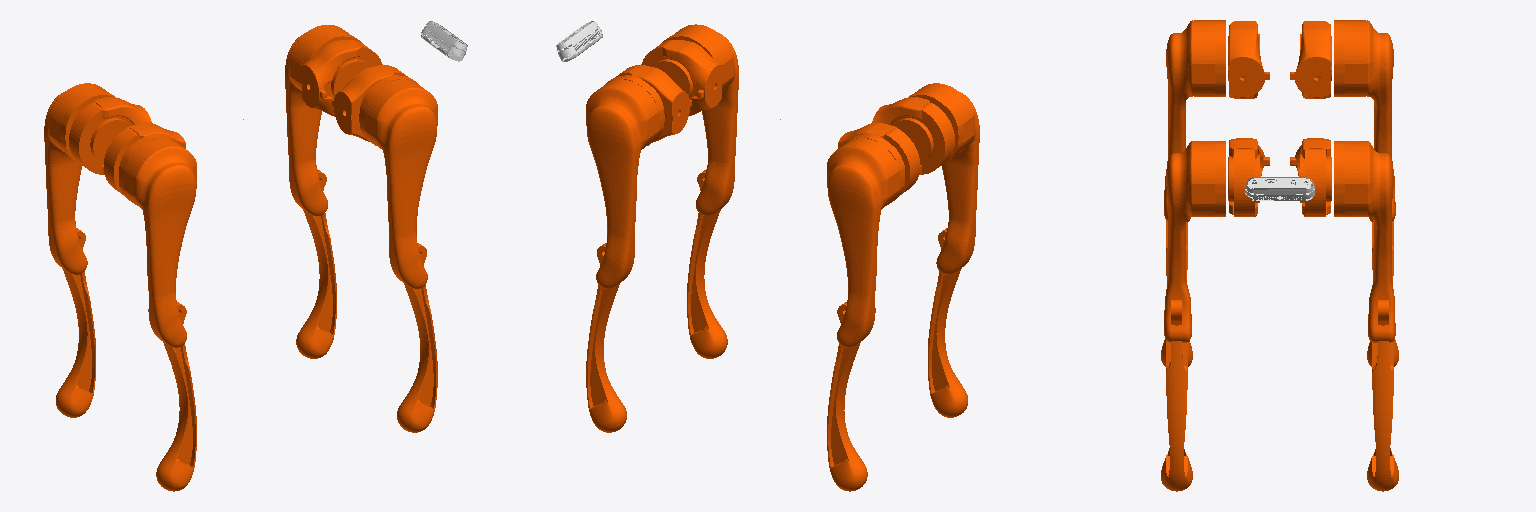
The robot description file, URDF, robot "a1":
<?xml version="1.0" encoding="utf-8"?>
<!-- =================================================================================== -->
<!-- |    This document was autogenerated by xacro from robot.xacro                    | -->
<!-- |    EDITING THIS FILE BY HAND IS NOT RECOMMENDED                                 | -->
<!-- =================================================================================== -->
<robot name="a1">
  <material name="black">
    <color rgba="0.0 0.0 0.0 1.0"/>
  </material>
  <material name="blue">
    <color rgba="0.0 0.0 0.8 1.0"/>
  </material>
  <material name="green">
    <color rgba="0.0 0.8 0.0 1.0"/>
  </material>
  <material name="grey">
    <color rgba="0.8 0.8 0.8 1.0"/>
  </material>
  <material name="silver">
    <color rgba="0.913725490196 0.913725490196 0.847058823529 1.0"/>
  </material>
  <material name="orange">
    <color rgba="1.0 0.423529411765 0.0392156862745 1.0"/>
  </material>
  <material name="brown">
    <color rgba="0.870588235294 0.811764705882 0.764705882353 1.0"/>
  </material>
  <material name="red">
    <color rgba="0.8 0.0 0.0 1.0"/>
  </material>
  <material name="white">
    <color rgba="1.0 1.0 1.0 1.0"/>
  </material>
  <link name="base">
    <visual>
      <origin rpy="0 0 0" xyz="0 0 0"/>
      <geometry>
        <box size="0.001 0.001 0.001"/>
      </geometry>
    </visual>
  </link>
  <joint name="floating_base" type="fixed">
    <origin rpy="0 0 0" xyz="0 0 0"/>
    <parent link="base"/>
    <child link="trunk"/>
  </joint>
  <link name="trunk">
    <visual>
      <origin rpy="0 0 0" xyz="0 0 0"/>
      <geometry>
           <mesh filename="../meshes/trunk.dae" scale="1 1 1"/>
      </geometry>
      <material name="black"/>
    </visual>
    <collision>
      <origin rpy="0 0 0" xyz="0 0 0"/>
      <geometry>
        <box size="0.267 0.194 0.114"/>
      </geometry>
    </collision>
    <inertial>
      <origin rpy="0 0 0" xyz="0.0 0.0041 -0.0005"/>
      <mass value="6.0"/>
      <inertia ixx="0.0158533" ixy="-3.66e-05" ixz="-6.11e-05" iyy="0.0377999" iyz="-2.75e-05" izz="0.0456542"/>
    </inertial>
  </link>




<link name="d435_camera_link">
  <inertial>
    <origin rpy="0 0 0" xyz="0 0 0"/>
    <mass value="0.055"/>
    <inertia ixx="1e-5" ixy="0" ixz="0" iyy="1e-5" iyz="0" izz="1e-5"/>
  </inertial>

  <visual>
    <origin rpy="1.57 0 1.57" xyz="0.015 0 0"/>
    <geometry>
       <mesh filename="../meshes/d435.stl"/>
    </geometry>
    <material name="camera_color">
      <color rgba="0.9 0.9 0.9 1.0"/>
    </material>
  </visual>

  <collision>
    <origin rpy="0 0 0" xyz="0 0 0"/>
    <geometry>
      <box size="0.025 0.09 0.025"/>
    </geometry>
  </collision>
</link>


<joint name="d435_camera_joint" type="fixed">
  <origin rpy="0 -1.0472 0" xyz="0.3 0 0.04"/>
  <parent link="trunk"/>
  <child link="d435_camera_link"/>
</joint>














  <joint name="imu_joint" type="fixed">
    <parent link="trunk"/>
    <child link="imu_link"/>
    <origin rpy="0 0 0" xyz="0 0 0"/>
  </joint>
  <link name="imu_link">
    <inertial>
      <mass value="0.001"/>
      <origin rpy="0 0 0" xyz="0 0 0"/>
      <inertia ixx="0.0001" ixy="0" ixz="0" iyy="0.0001" iyz="0" izz="0.0001"/>
    </inertial>
    <visual>
      <origin rpy="0 0 0" xyz="0 0 0"/>
      <geometry>
        <box size="0.001 0.001 0.001"/>
      </geometry>
      <material name="red"/>
    </visual>
    <collision>
      <origin rpy="0 0 0" xyz="0 0 0"/>
      <geometry>
        <box size=".001 .001 .001"/>
      </geometry>
    </collision>
  </link>
  <joint name="FR_hip_joint" type="revolute">
    <origin rpy="0 0 0" xyz="0.1805 -0.047 0"/>
    <parent link="trunk"/>
    <child link="FR_hip"/>
    <axis xyz="1 0 0"/>
    <dynamics damping="0." friction="0.0"/>
    <limit effort="33.5" lower="-6.28" upper="6.28" velocity="21"/>
  </joint>
  <link name="FR_hip">
    <visual>
      <origin rpy="3.14159265359 0 0" xyz="0 0 0"/>
      <geometry>
           <mesh filename="../meshes/hip.dae" scale="1 1 1"/>
      </geometry>
      <material name="orange"/>
    </visual>
    <collision>
      <origin rpy="1.57079632679 0 0" xyz="0 0 0"/>
      <geometry>
        <cylinder length="0.04" radius="0.046"/>
      </geometry>
    </collision>
    <inertial>
      <origin rpy="0 0 0" xyz="-0.003311 -0.000635 3.1e-05"/>
      <mass value="0.696"/>
      <inertia ixx="0.000469246" ixy="9.409e-06" ixz="-3.42e-07" iyy="0.00080749" iyz="4.66e-07" izz="0.000552929"/>
    </inertial>
  </link>
  <joint name="FR_hip_fixed" type="fixed">
    <origin rpy="0 0 0" xyz="0 -0.081 0"/>
    <parent link="FR_hip"/>
    <child link="FR_thigh_shoulder"/>
  </joint>
  <!-- this link is only for collision -->
  <link name="FR_thigh_shoulder">
    <collision>
      <origin rpy="1.57079632679 0 0" xyz="0 0 0"/>
      <geometry>
        <cylinder length="0.032" radius="0.041"/>
      </geometry>
    </collision>
  </link>
  <joint name="FR_thigh_joint" type="revolute">
    <origin rpy="0 0 0" xyz="0 -0.0838 0"/>
    <parent link="FR_hip"/>
    <child link="FR_thigh"/>
    <axis xyz="0 1 0"/>
    <dynamics damping="0." friction="0.0"/>
    <limit effort="33.5" lower="-6.28" upper="6.28" velocity="21"/>
  </joint>
  <link name="FR_thigh">
    <visual>
      <origin rpy="0 0 0" xyz="0 0 0"/>
      <geometry>
           <mesh filename="../meshes/thigh_mirror.dae" scale="1 1 1"/>
      </geometry>
      <material name="orange"/>
    </visual>
    <collision>
      <origin rpy="0 1.57079632679 0" xyz="0 0 -0.1"/>
      <geometry>
        <box size="0.2 0.0245 0.034"/>
      </geometry>
    </collision>
    <inertial>
      <origin rpy="0 0 0" xyz="-0.003237 0.022327 -0.027326"/>
      <mass value="1.013"/>
      <inertia ixx="0.005529065" ixy="-4.825e-06" ixz="0.000343869" iyy="0.005139339" iyz="-2.2448e-05" izz="0.001367788"/>
    </inertial>
  </link>
  <joint name="FR_calf_joint" type="revolute">
    <origin rpy="0 0 0" xyz="0 0 -0.2"/>
    <parent link="FR_thigh"/>
    <child link="FR_calf"/>
    <axis xyz="0 1 0"/>
    <dynamics damping="0." friction="0.0"/>
    <limit effort="33.5" lower="-6.28" upper="6.28" velocity="21"/>
  </joint>
  <link name="FR_calf">
    <visual>
      <origin rpy="0 0 0" xyz="0 0 0"/>
      <geometry>
           <mesh filename="../meshes/calf.dae" scale="1 1 1"/>
      </geometry>
      <material name="orange"/>
    </visual>
    <collision>
      <origin rpy="0 1.57079632679 0" xyz="0 0 -0.1"/>
      <geometry>
        <box size="0.2 0.016 0.016"/>
      </geometry>
    </collision>
    <inertial>
      <origin rpy="0 0 0" xyz="0.006435 0.0 -0.107388"/>
      <mass value="0.166"/>
      <inertia ixx="0.002997972" ixy="0.0" ixz="-0.000141163" iyy="0.003014022" iyz="0.0" izz="3.2426e-05"/>
    </inertial>
  </link>
  <joint name="FR_foot_fixed" type="fixed"  dont_collapse="true">
    <origin rpy="0 0 0" xyz="0 0 -0.2"/>
    <parent link="FR_calf"/>
    <child link="FR_foot"/>
  </joint>
  <link name="FR_foot">
    <visual>
      <origin rpy="0 0 0" xyz="0 0 0"/>
      <geometry>
        <sphere radius="0.01"/>
      </geometry>
      <material name="orange"/>
    </visual>
    <collision>
      <origin rpy="0 0 0" xyz="0 0 0"/>
      <geometry>
        <sphere radius="0.02"/>
      </geometry>
    </collision>
    <inertial>
      <mass value="0.06"/>
      <inertia ixx="9.6e-06" ixy="0.0" ixz="0.0" iyy="9.6e-06" iyz="0.0" izz="9.6e-06"/>
    </inertial>
  </link>
  <joint name="FL_hip_joint" type="revolute">
    <origin rpy="0 0 0" xyz="0.1805 0.047 0"/>
    <parent link="trunk"/>
    <child link="FL_hip"/>
    <axis xyz="1 0 0"/>
    <dynamics damping="0." friction="0.0"/>
    <limit effort="33.5" lower="-6.28" upper="6.28" velocity="21"/>
  </joint>
  <link name="FL_hip">
    <visual>
      <origin rpy="0 0 0" xyz="0 0 0"/>
      <geometry>
           <mesh filename="../meshes/hip.dae" scale="1 1 1"/>
      </geometry>
      <material name="orange"/>
    </visual>
    <collision>
      <origin rpy="1.57079632679 0 0" xyz="0 0 0"/>
      <geometry>
        <cylinder length="0.04" radius="0.046"/>
      </geometry>
    </collision>
    <inertial>
      <origin rpy="0 0 0" xyz="-0.003311 0.000635 3.1e-05"/>
      <mass value="0.696"/>
      <inertia ixx="0.000469246" ixy="-9.409e-06" ixz="-3.42e-07" iyy="0.00080749" iyz="-4.66e-07" izz="0.000552929"/>
    </inertial>
  </link>
  <joint name="FL_hip_fixed" type="fixed">
    <origin rpy="0 0 0" xyz="0 0.081 0"/>
    <parent link="FL_hip"/>
    <child link="FL_thigh_shoulder"/>
  </joint>
  <!-- this link is only for collision -->
  <link name="FL_thigh_shoulder">
    <collision>
      <origin rpy="1.57079632679 0 0" xyz="0 0 0"/>
      <geometry>
        <cylinder length="0.032" radius="0.041"/>
      </geometry>
    </collision>
  </link>
  <joint name="FL_thigh_joint" type="revolute">
    <origin rpy="0 0 0" xyz="0 0.0838 0"/>
    <parent link="FL_hip"/>
    <child link="FL_thigh"/>
    <axis xyz="0 1 0"/>
    <dynamics damping="0." friction="0.0"/>
    <limit effort="33.5" lower="-6.28" upper="6.28" velocity="21"/>
  </joint>
  <link name="FL_thigh">
    <visual>
      <origin rpy="0 0 0" xyz="0 0 0"/>
      <geometry>
           <mesh filename="../meshes/thigh.dae" scale="1 1 1"/>
      </geometry>
      <material name="orange"/>
    </visual>
    <collision>
      <origin rpy="0 1.57079632679 0" xyz="0 0 -0.1"/>
      <geometry>
        <box size="0.2 0.0245 0.034"/>
      </geometry>
    </collision>
    <inertial>
      <origin rpy="0 0 0" xyz="-0.003237 -0.022327 -0.027326"/>
      <mass value="1.013"/>
      <inertia ixx="0.005529065" ixy="4.825e-06" ixz="0.000343869" iyy="0.005139339" iyz="2.2448e-05" izz="0.001367788"/>
    </inertial>
  </link>
  <joint name="FL_calf_joint" type="revolute">
    <origin rpy="0 0 0" xyz="0 0 -0.2"/>
    <parent link="FL_thigh"/>
    <child link="FL_calf"/>
    <axis xyz="0 1 0"/>
    <dynamics damping="0." friction="0.0"/>
    <limit effort="33.5" lower="-6.28" upper="6.28" velocity="21"/>
  </joint>
  <link name="FL_calf">
    <visual>
      <origin rpy="0 0 0" xyz="0 0 0"/>
      <geometry>
           <mesh filename="../meshes/calf.dae" scale="1 1 1"/>
      </geometry>
      <material name="orange"/>
    </visual>
    <collision>
      <origin rpy="0 1.57079632679 0" xyz="0 0 -0.1"/>
      <geometry>
        <box size="0.2 0.016 0.016"/>
      </geometry>
    </collision>
    <inertial>
      <origin rpy="0 0 0" xyz="0.006435 0.0 -0.107388"/>
      <mass value="0.166"/>
      <inertia ixx="0.002997972" ixy="0.0" ixz="-0.000141163" iyy="0.003014022" iyz="0.0" izz="3.2426e-05"/>
    </inertial>
  </link>
  <joint name="FL_foot_fixed" type="fixed"  dont_collapse="true">
    <origin rpy="0 0 0" xyz="0 0 -0.2"/>
    <parent link="FL_calf"/>
    <child link="FL_foot"/>
  </joint>
  <link name="FL_foot">
    <visual>
      <origin rpy="0 0 0" xyz="0 0 0"/>
      <geometry>
        <sphere radius="0.01"/>
      </geometry>
      <material name="orange"/>
    </visual>
    <collision>
      <origin rpy="0 0 0" xyz="0 0 0"/>
      <geometry>
        <sphere radius="0.02"/>
      </geometry>
    </collision>
    <inertial>
      <mass value="0.06"/>
      <inertia ixx="9.6e-06" ixy="0.0" ixz="0.0" iyy="9.6e-06" iyz="0.0" izz="9.6e-06"/>
    </inertial>
  </link>
  <joint name="RR_hip_joint" type="revolute">
    <origin rpy="0 0 0" xyz="-0.1805 -0.047 0"/>
    <parent link="trunk"/>
    <child link="RR_hip"/>
    <axis xyz="1 0 0"/>
    <dynamics damping="0." friction="0.0"/>
    <limit effort="33.5" lower="-6.28" upper="6.28" velocity="21"/>
  </joint>
  <link name="RR_hip">
    <visual>
      <origin rpy="3.14159265359 3.14159265359 0" xyz="0 0 0"/>
      <geometry>
           <mesh filename="../meshes/hip.dae" scale="1 1 1"/>
      </geometry>
      <material name="orange"/>
    </visual>
    <collision>
      <origin rpy="1.57079632679 0 0" xyz="0 0 0"/>
      <geometry>
        <cylinder length="0.04" radius="0.046"/>
      </geometry>
    </collision>
    <inertial>
      <origin rpy="0 0 0" xyz="0.003311 -0.000635 3.1e-05"/>
      <mass value="0.696"/>
      <inertia ixx="0.000469246" ixy="-9.409e-06" ixz="3.42e-07" iyy="0.00080749" iyz="4.66e-07" izz="0.000552929"/>
    </inertial>
  </link>
  <joint name="RR_hip_fixed" type="fixed">
    <origin rpy="0 0 0" xyz="0 -0.081 0"/>
    <parent link="RR_hip"/>
    <child link="RR_thigh_shoulder"/>
  </joint>
  <!-- this link is only for collision -->
  <link name="RR_thigh_shoulder">
    <collision>
      <origin rpy="1.57079632679 0 0" xyz="0 0 0"/>
      <geometry>
        <cylinder length="0.032" radius="0.041"/>
      </geometry>
    </collision>
  </link>
  <joint name="RR_thigh_joint" type="revolute">
    <origin rpy="0 0 0" xyz="0 -0.0838 0"/>
    <parent link="RR_hip"/>
    <child link="RR_thigh"/>
    <axis xyz="0 1 0"/>
    <dynamics damping="0." friction="0.0"/>
    <limit effort="33.5" lower="-6.28" upper="6.28" velocity="21"/>
  </joint>
  <link name="RR_thigh">
    <visual>
      <origin rpy="0 0 0" xyz="0 0 0"/>
      <geometry>
           <mesh filename="../meshes/thigh_mirror.dae" scale="1 1 1"/>
      </geometry>
      <material name="orange"/>
    </visual>
    <collision>
      <origin rpy="0 1.57079632679 0" xyz="0 0 -0.1"/>
      <geometry>
        <box size="0.2 0.0245 0.034"/>
      </geometry>
    </collision>
    <inertial>
      <origin rpy="0 0 0" xyz="-0.003237 0.022327 -0.027326"/>
      <mass value="1.013"/>
      <inertia ixx="0.005529065" ixy="-4.825e-06" ixz="0.000343869" iyy="0.005139339" iyz="-2.2448e-05" izz="0.001367788"/>
    </inertial>
  </link>
  <joint name="RR_calf_joint" type="revolute">
    <origin rpy="0 0 0" xyz="0 0 -0.2"/>
    <parent link="RR_thigh"/>
    <child link="RR_calf"/>
    <axis xyz="0 1 0"/>
    <dynamics damping="0." friction="0.0"/>
    <limit effort="33.5" lower="-6.28" upper="6.28" velocity="21"/>
  </joint>
  <link name="RR_calf">
    <visual>
      <origin rpy="0 0 0" xyz="0 0 0"/>
      <geometry>
           <mesh filename="../meshes/calf.dae" scale="1 1 1"/>
      </geometry>
      <material name="orange"/>
    </visual>
    <collision>
      <origin rpy="0 1.57079632679 0" xyz="0 0 -0.1"/>
      <geometry>
        <box size="0.2 0.016 0.016"/>
      </geometry>
    </collision>
    <inertial>
      <origin rpy="0 0 0" xyz="0.006435 0.0 -0.107388"/>
      <mass value="0.166"/>
      <inertia ixx="0.002997972" ixy="0.0" ixz="-0.000141163" iyy="0.003014022" iyz="0.0" izz="3.2426e-05"/>
    </inertial>
  </link>
  <joint name="RR_foot_fixed" type="fixed"  dont_collapse="true">
    <origin rpy="0 0 0" xyz="0 0 -0.2"/>
    <parent link="RR_calf"/>
    <child link="RR_foot"/>
  </joint>
  <link name="RR_foot">
    <visual>
      <origin rpy="0 0 0" xyz="0 0 0"/>
      <geometry>
        <sphere radius="0.01"/>
      </geometry>
      <material name="orange"/>
    </visual>
    <collision>
      <origin rpy="0 0 0" xyz="0 0 0"/>
      <geometry>
        <sphere radius="0.02"/>
      </geometry>
    </collision>
    <inertial>
      <mass value="0.06"/>
      <inertia ixx="9.6e-06" ixy="0.0" ixz="0.0" iyy="9.6e-06" iyz="0.0" izz="9.6e-06"/>
    </inertial>
  </link>
  <joint name="RL_hip_joint" type="revolute">
    <origin rpy="0 0 0" xyz="-0.1805 0.047 0"/>
    <parent link="trunk"/>
    <child link="RL_hip"/>
    <axis xyz="1 0 0"/>
    <dynamics damping="0." friction="0.0"/>
    <limit effort="33.5" lower="-6.28" upper="6.28" velocity="21"/>
  </joint>
  <link name="RL_hip">
    <visual>
      <origin rpy="0 3.14159265359 0" xyz="0 0 0"/>
      <geometry>
           <mesh filename="../meshes/hip.dae" scale="1 1 1"/>
      </geometry>
      <material name="orange"/>
    </visual>
    <collision>
      <origin rpy="1.57079632679 0 0" xyz="0 0 0"/>
      <geometry>
        <cylinder length="0.04" radius="0.046"/>
      </geometry>
    </collision>
    <inertial>
      <origin rpy="0 0 0" xyz="0.003311 0.000635 3.1e-05"/>
      <mass value="0.696"/>
      <inertia ixx="0.000469246" ixy="9.409e-06" ixz="3.42e-07" iyy="0.00080749" iyz="-4.66e-07" izz="0.000552929"/>
    </inertial>
  </link>
  <joint name="RL_hip_fixed" type="fixed">
    <origin rpy="0 0 0" xyz="0 0.081 0"/>
    <parent link="RL_hip"/>
    <child link="RL_thigh_shoulder"/>
  </joint>
  <!-- this link is only for collision -->
  <link name="RL_thigh_shoulder">
    <collision>
      <origin rpy="1.57079632679 0 0" xyz="0 0 0"/>
      <geometry>
        <cylinder length="0.032" radius="0.041"/>
      </geometry>
    </collision>
  </link>
  <joint name="RL_thigh_joint" type="revolute">
    <origin rpy="0 0 0" xyz="0 0.0838 0"/>
    <parent link="RL_hip"/>
    <child link="RL_thigh"/>
    <axis xyz="0 1 0"/>
    <dynamics damping="0." friction="0.0"/>
    <limit effort="33.5" lower="-6.28" upper="6.28" velocity="21"/>
  </joint>
  <link name="RL_thigh">
    <visual>
      <origin rpy="0 0 0" xyz="0 0 0"/>
      <geometry>
           <mesh filename="../meshes/thigh.dae" scale="1 1 1"/>
      </geometry>
      <material name="orange"/>
    </visual>
    <collision>
      <origin rpy="0 1.57079632679 0" xyz="0 0 -0.1"/>
      <geometry>
        <box size="0.2 0.0245 0.034"/>
      </geometry>
    </collision>
    <inertial>
      <origin rpy="0 0 0" xyz="-0.003237 -0.022327 -0.027326"/>
      <mass value="1.013"/>
      <inertia ixx="0.005529065" ixy="4.825e-06" ixz="0.000343869" iyy="0.005139339" iyz="2.2448e-05" izz="0.001367788"/>
    </inertial>
  </link>
  <joint name="RL_calf_joint" type="revolute">
    <origin rpy="0 0 0" xyz="0 0 -0.2"/>
    <parent link="RL_thigh"/>
    <child link="RL_calf"/>
    <axis xyz="0 1 0"/>
    <dynamics damping="0." friction="0.0"/>
    <limit effort="33.5" lower="-6.28" upper="6.28" velocity="21"/>
  </joint>
  <link name="RL_calf">
    <visual>
      <origin rpy="0 0 0" xyz="0 0 0"/>
      <geometry>
           <mesh filename="../meshes/calf.dae" scale="1 1 1"/>
      </geometry>
      <material name="orange"/>
    </visual>
    <collision>
      <origin rpy="0 1.57079632679 0" xyz="0 0 -0.1"/>
      <geometry>
        <box size="0.2 0.016 0.016"/>
      </geometry>
    </collision>
    <inertial>
      <origin rpy="0 0 0" xyz="0.006435 0.0 -0.107388"/>
      <mass value="0.166"/>
      <inertia ixx="0.002997972" ixy="0.0" ixz="-0.000141163" iyy="0.003014022" iyz="0.0" izz="3.2426e-05"/>
    </inertial>
  </link>
  <joint name="RL_foot_fixed" type="fixed"  dont_collapse="true">
    <origin rpy="0 0 0" xyz="0 0 -0.2"/>
    <parent link="RL_calf"/>
    <child link="RL_foot"/>
  </joint>
  <link name="RL_foot">
    <visual>
      <origin rpy="0 0 0" xyz="0 0 0"/>
      <geometry>
        <sphere radius="0.01"/>
      </geometry>
      <material name="orange"/>
    </visual>
    <collision>
      <origin rpy="0 0 0" xyz="0 0 0"/>
      <geometry>
        <sphere radius="0.02"/>
      </geometry>
    </collision>
    <inertial>
      <mass value="0.06"/>
      <inertia ixx="9.6e-06" ixy="0.0" ixz="0.0" iyy="9.6e-06" iyz="0.0" izz="9.6e-06"/>
    </inertial>
  </link>
</robot>

--- Render facts (derived) ---
3 views of the same robot in one strip: view 1: azimuth 30°, elevation 25°; view 2: azimuth 150°, elevation 25°; view 3: azimuth 270°, elevation 25° (orthographic).
Model a1 with 24 links and 23 joints (12 revolute, 11 fixed), rooted at base, posed every joint at zero.
Links seen in each view (by area): view 1: FR_thigh, RR_thigh, RL_thigh, FL_thigh, RL_hip, FL_hip, FR_calf, RR_calf, FL_calf, RL_calf, FR_hip, RR_hip (+1 smaller); view 2: FL_thigh, RL_thigh, RR_thigh, FR_thigh, RR_hip, FR_hip, FL_calf, RL_calf, FR_calf, RR_calf, FL_hip, RL_hip (+1 smaller); view 3: FR_thigh, FL_thigh, RR_thigh, RL_thigh, FR_calf, FL_calf, RL_hip, RR_hip, FR_hip, FL_hip, d435_camera_link.
Link boxes in pixels (left/top/right/bottom): FR_thigh: left=359, top=75, right=437, bottom=288; RR_thigh: left=119, top=134, right=196, bottom=347; RL_thigh: left=44, top=83, right=114, bottom=274; FL_thigh: left=285, top=25, right=361, bottom=215; RL_hip: left=69, top=97, right=151, bottom=174; FL_hip: left=301, top=40, right=382, bottom=116; FR_calf: left=397, top=243, right=437, bottom=432; RR_calf: left=156, top=302, right=196, bottom=491; FL_calf: left=296, top=169, right=336, bottom=358; RL_calf: left=56, top=228, right=95, bottom=417; FR_hip: left=332, top=65, right=407, bottom=141; RR_hip: left=104, top=122, right=185, bottom=194; FL_thigh: left=586, top=75, right=664, bottom=288; RL_thigh: left=827, top=134, right=904, bottom=347; RR_thigh: left=909, top=83, right=979, bottom=274; FR_thigh: left=662, top=24, right=738, bottom=215; RR_hip: left=872, top=97, right=954, bottom=174; FR_hip: left=641, top=40, right=722, bottom=115; FL_calf: left=586, top=243, right=626, bottom=432; RL_calf: left=827, top=302, right=867, bottom=491; FR_calf: left=687, top=169, right=727, bottom=358; RR_calf: left=928, top=228, right=967, bottom=417; FL_hip: left=616, top=65, right=691, bottom=141; RL_hip: left=838, top=122, right=919, bottom=194; FR_thigh: left=1164, top=141, right=1225, bottom=342; FL_thigh: left=1334, top=141, right=1395, bottom=342; RR_thigh: left=1164, top=20, right=1225, bottom=221; RL_thigh: left=1334, top=20, right=1395, bottom=221; FR_calf: left=1161, top=300, right=1192, bottom=491; FL_calf: left=1367, top=300, right=1398, bottom=491; RL_hip: left=1290, top=21, right=1331, bottom=98; RR_hip: left=1228, top=21, right=1269, bottom=98; FR_hip: left=1228, top=138, right=1269, bottom=216; FL_hip: left=1290, top=138, right=1331, bottom=216; d435_camera_link: left=1245, top=177, right=1314, bottom=200.
Size in the robot's own frame: 0.5445 by 0.3021 by 0.493 metres.
13 mesh visuals loaded from 6 distinct referenced files (1 binary STL, 4 Collada DAE); not drawn: 1 (reference not matched to a file when rendering).
